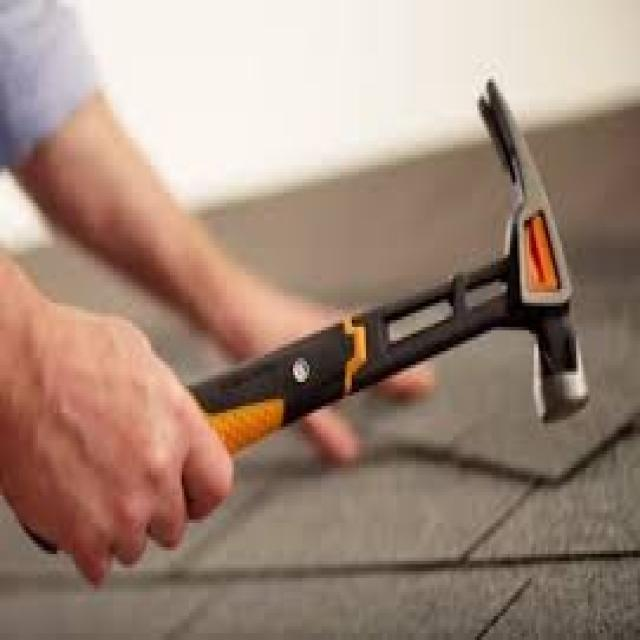Palu: (214, 80, 578, 552)
